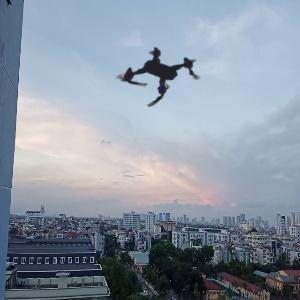drone: (89, 1, 233, 145)
